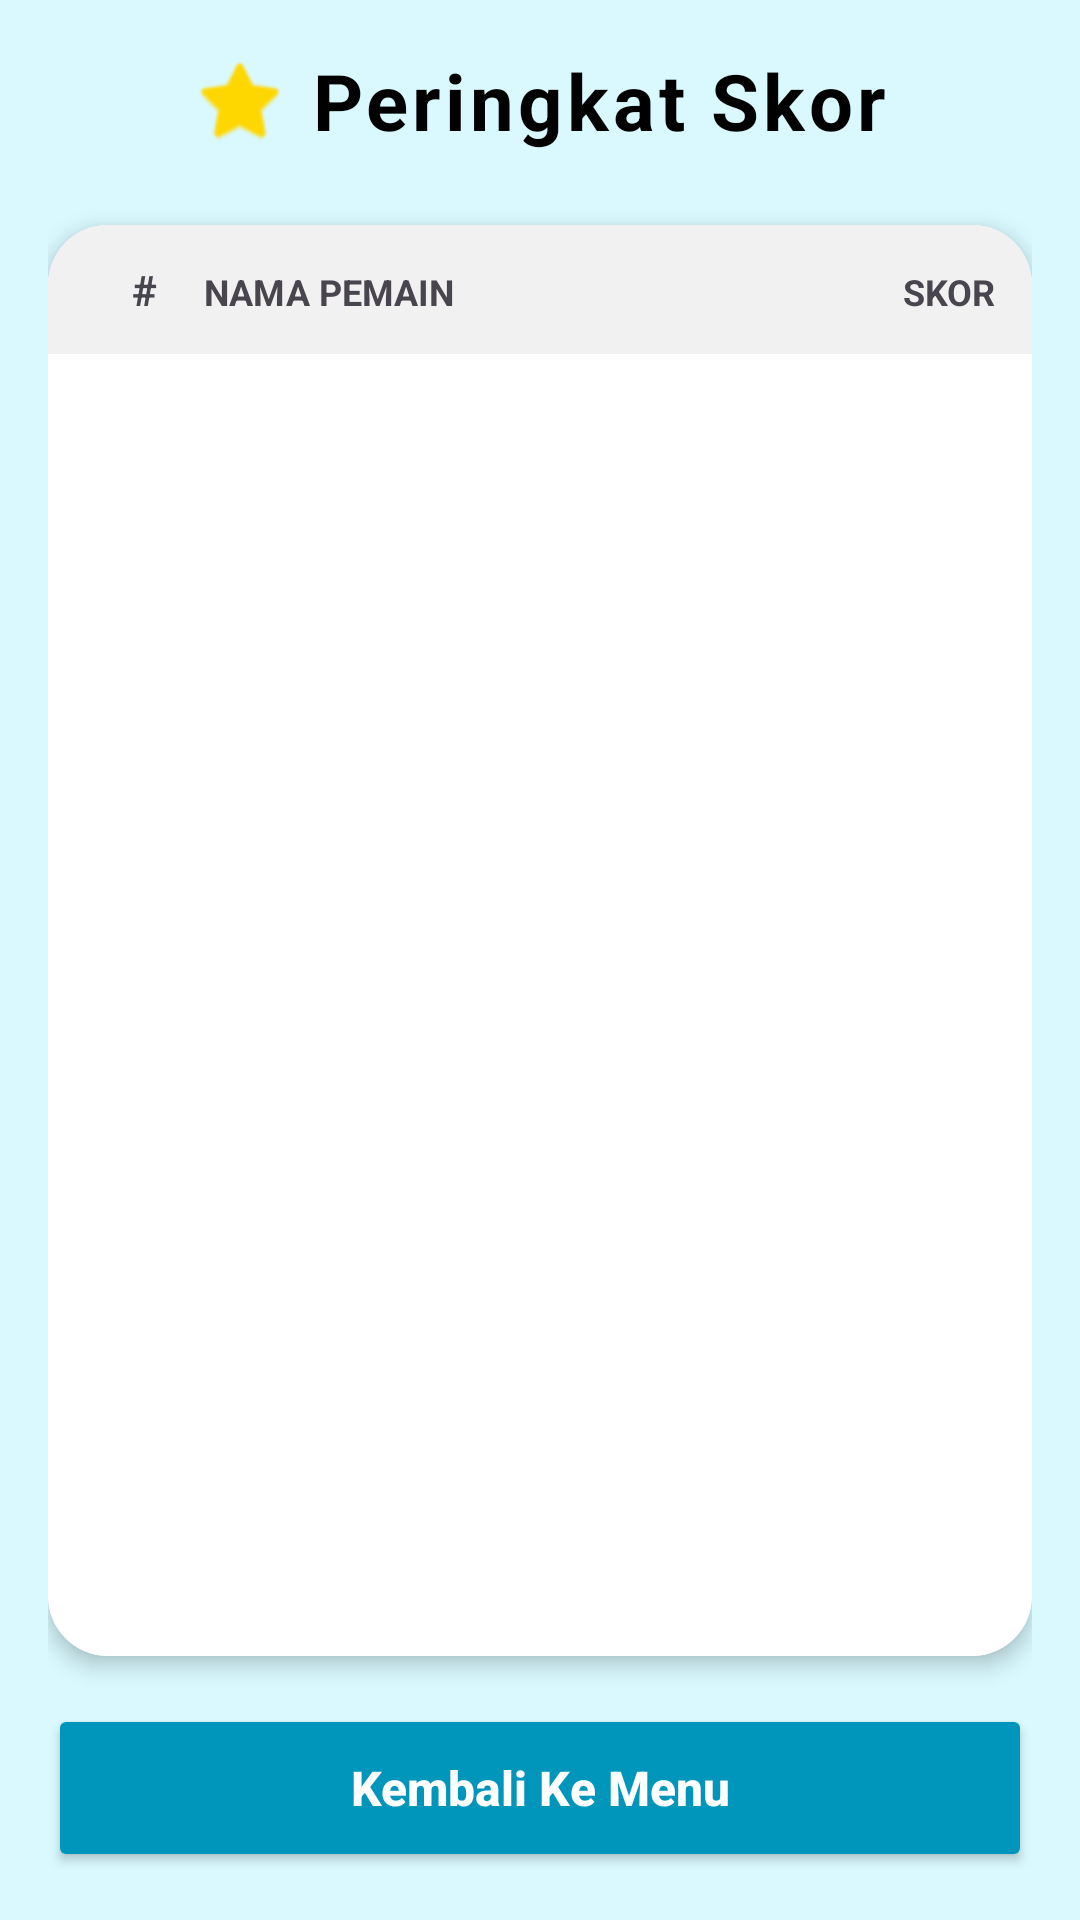

Icon click points for this 1080*1920 phone screenshot, format (x=x, y=y):
star on: (x=240, y=101)
